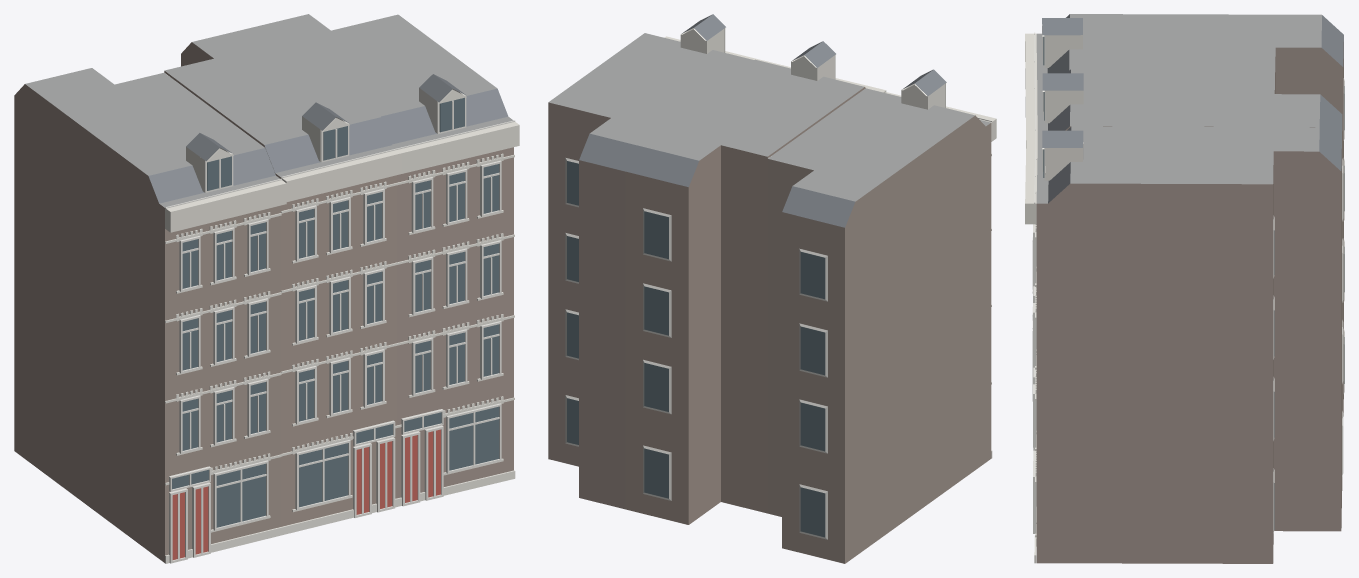
The model's file is chunk-face-houweningen-1-31-r3.glb.
The picture shows the model from 3 angles, left to right: view 1: azimuth 30°, elevation 25°; view 2: azimuth 150°, elevation 25°; view 3: azimuth 270°, elevation 25°; orthographic projection. The views are drawn at different scales.
Visible parts, largest first — view 1: face-houweningen-1-31-r3; view 2: face-houweningen-1-31-r3; view 3: face-houweningen-1-31-r3.
Part boxes in pixels (left/top/right/bottom): face-houweningen-1-31-r3: left=14, top=14, right=519, bottom=563; face-houweningen-1-31-r3: left=548, top=14, right=996, bottom=563; face-houweningen-1-31-r3: left=1025, top=14, right=1344, bottom=563.
Size of the model in its own units: 14.16 by 15.48 by 11.1.
